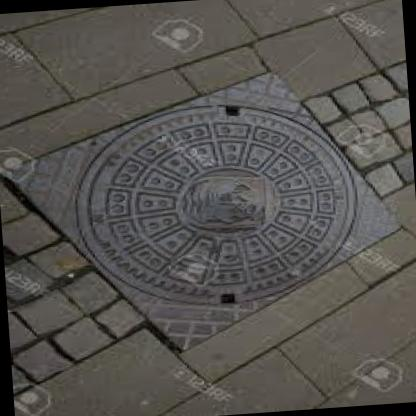manholes: (46, 78, 380, 344)
